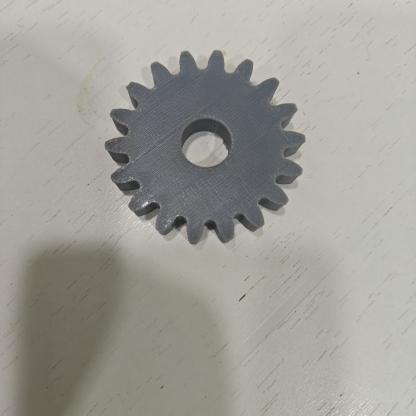gear: (105, 51, 305, 244)
